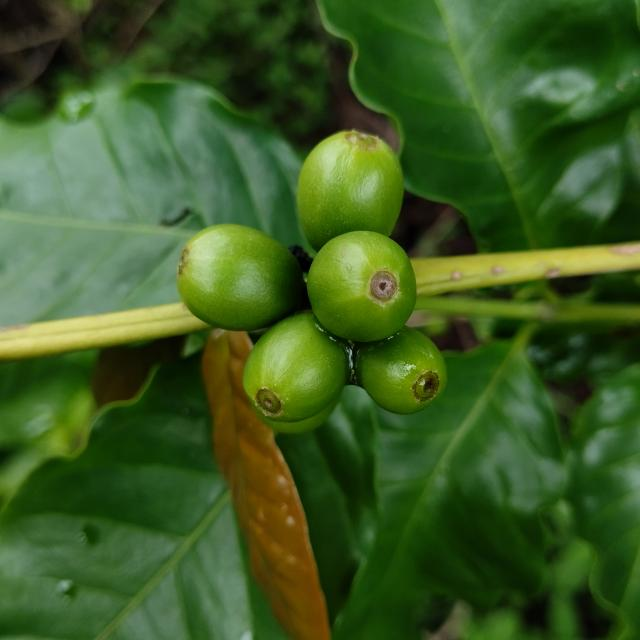green: (177, 224, 303, 331), (297, 130, 404, 251), (307, 230, 417, 342), (243, 312, 352, 425), (355, 326, 448, 415)
